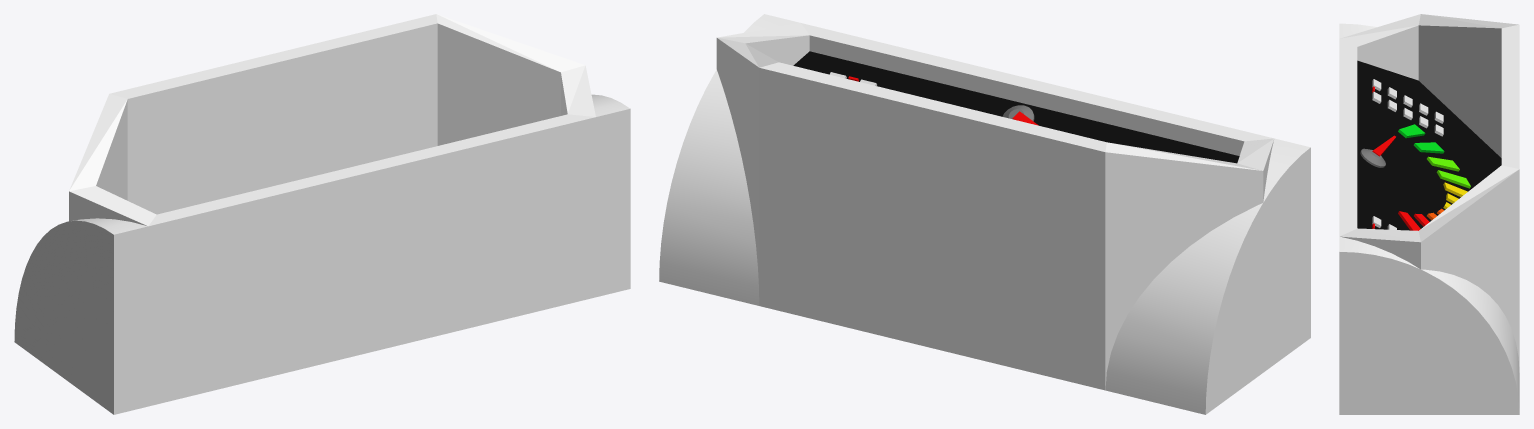
Rendered from Leg_YiBiaoPan_1X3_01.FBX.
3 views of the same model, side by side, from view 1: azimuth 30°, elevation 25°; view 2: azimuth 150°, elevation 25°; view 3: azimuth 270°, elevation 25° (orthographic). The views are drawn at different scales.
Parts seen in each view (by area): view 1: YBP; view 2: YBP; view 3: YBP.
Boxes of the visible parts, left/top/right/bottom form: YBP: left=14, top=14, right=630, bottom=414; YBP: left=659, top=14, right=1310, bottom=414; YBP: left=1339, top=14, right=1519, bottom=414.
Bounding box in the file's own units: 3 × 1.25 × 1.
